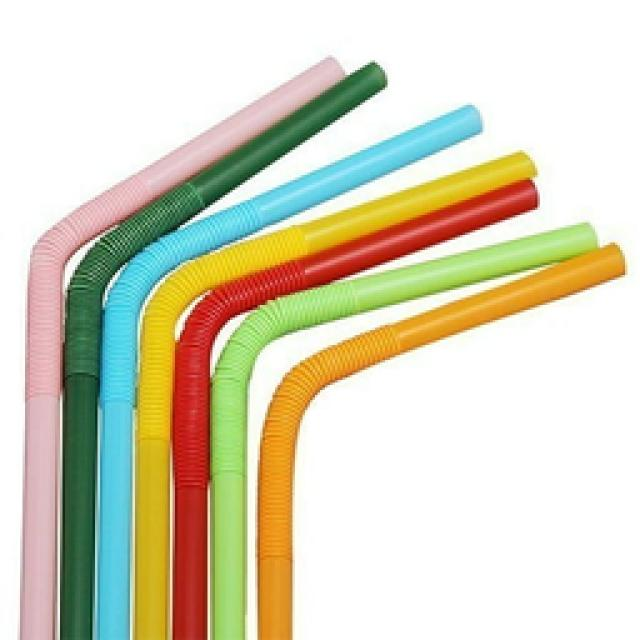plastic: (12, 50, 628, 638), (207, 220, 625, 638)
